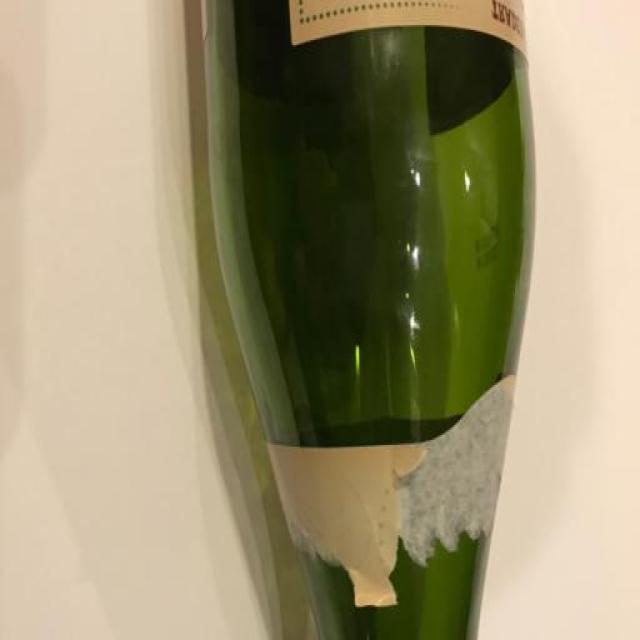glass: (201, 0, 535, 640)
